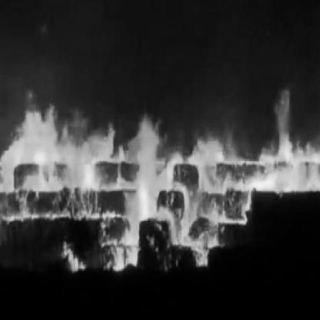Fire: (1, 82, 318, 280)
